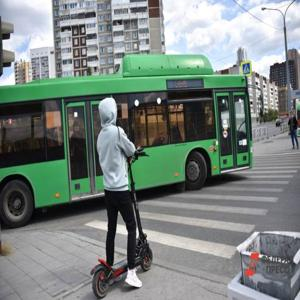human on a scooter: (89, 96, 154, 299)
